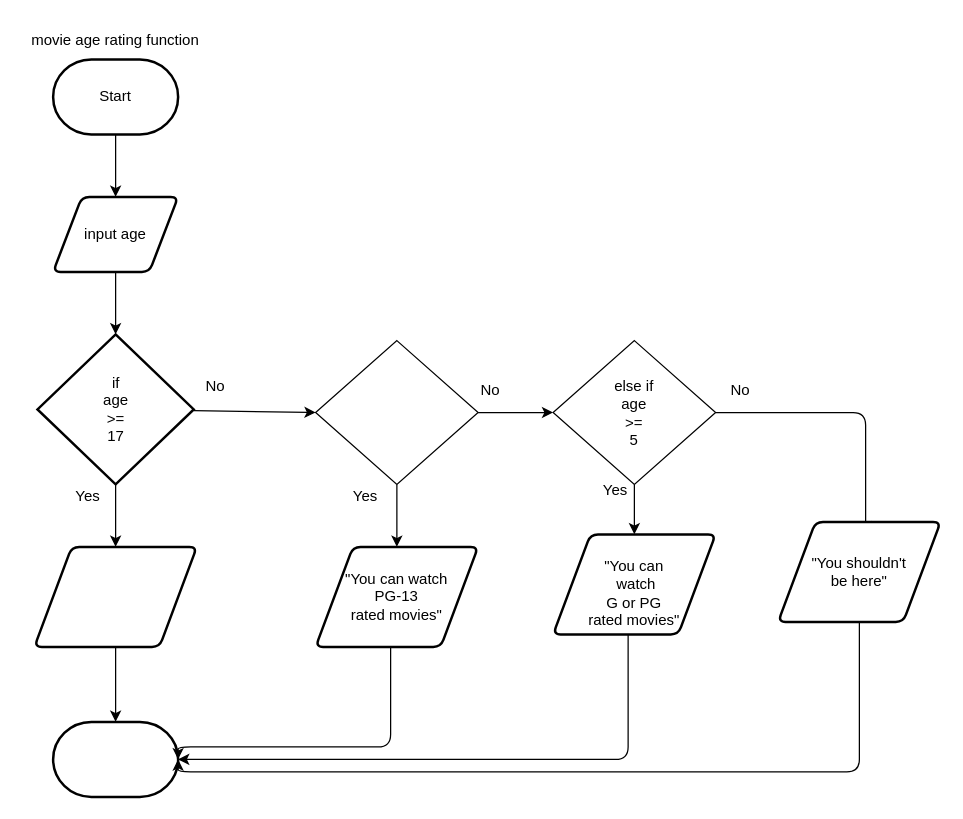
This 963x819 diagram has some shape labels left out. The centre of each missing label's shape, as x and y in pixels:
"You can watch R rated movies": point 115,596
else if age >= 13: point 396,411
Stop: point 115,759
